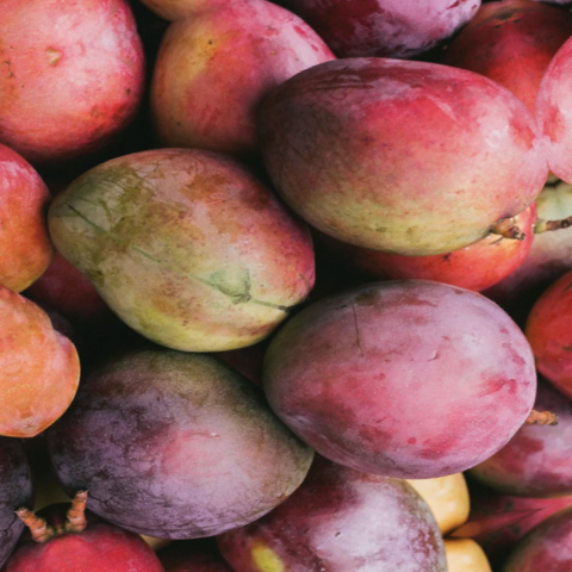mango: (222, 0, 571, 321), (38, 84, 346, 412), (240, 233, 572, 525), (20, 300, 337, 572)
